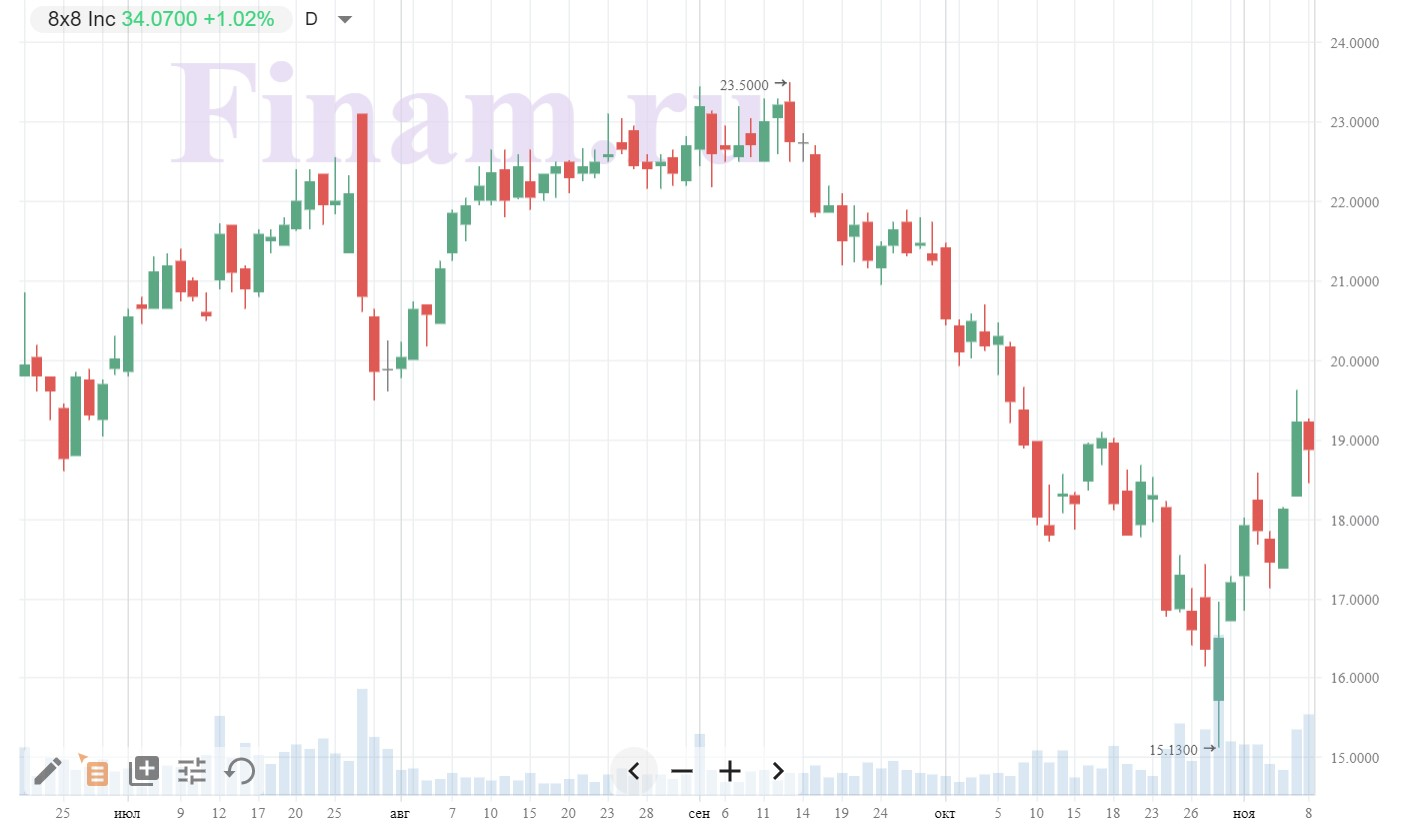bearishEngulfing: (344, 107, 372, 313)
bullish_engulfing_pattern: (420, 258, 448, 358), (1264, 501, 1295, 590), (239, 230, 266, 302), (666, 135, 694, 192)
eveningStar: (757, 93, 798, 170)
morningDojiStar: (365, 309, 408, 404)
morningStar: (187, 223, 224, 323)
